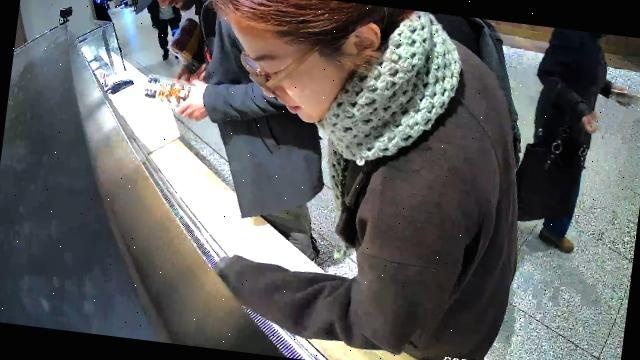sushi-box: (143, 73, 197, 105)
